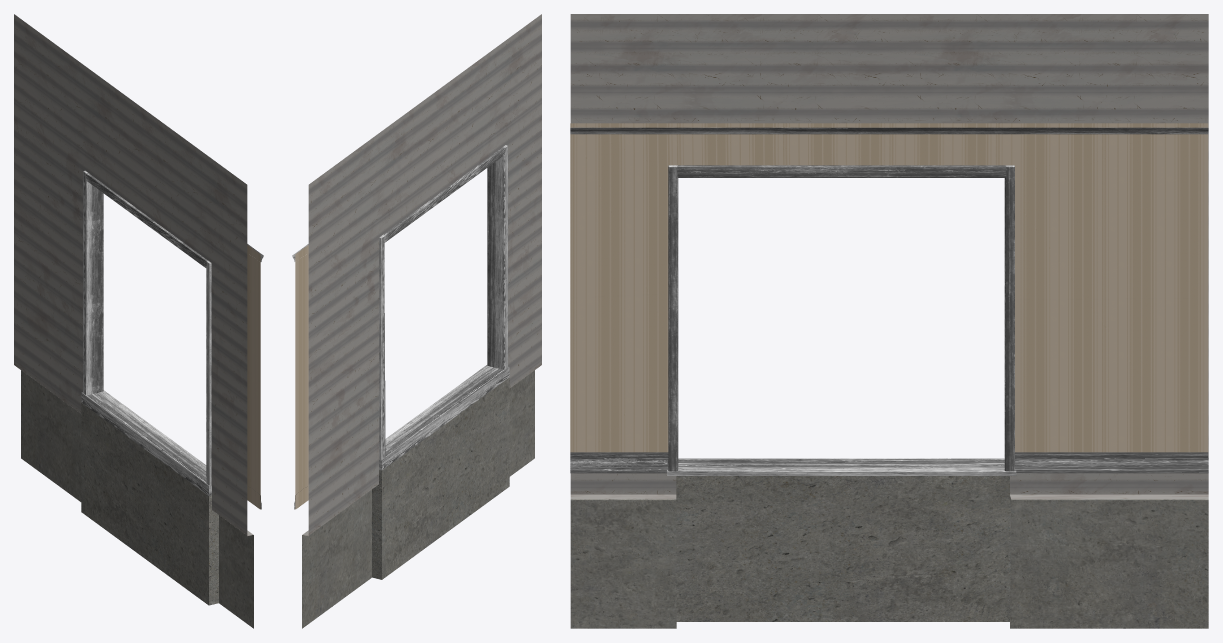
Rendered from SM_Frame_Floor1_B.fbx.
3 renders of one model, left to right at view 1: azimuth 30°, elevation 25°; view 2: azimuth 150°, elevation 25°; view 3: azimuth 270°, elevation 25°, orthographic. The views are drawn at different scales.
Visible parts, largest first — view 1: SM_Frame_Floor1_B; view 2: SM_Frame_Floor1_B; view 3: SM_Frame_Floor1_B.
Boxes of the visible parts, left/top/right/bottom form: SM_Frame_Floor1_B: left=14, top=14, right=263, bottom=628; SM_Frame_Floor1_B: left=292, top=14, right=541, bottom=628; SM_Frame_Floor1_B: left=570, top=14, right=1208, bottom=628.
Size of the model in its own units: 20.49 by 420 by 443.
Materials: 5 (5 with a texture image).
